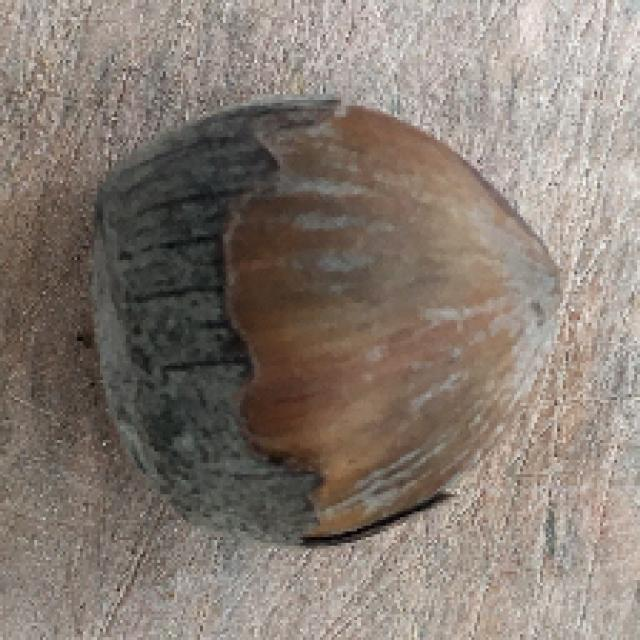damagedHazelnut: (64, 99, 558, 547)
